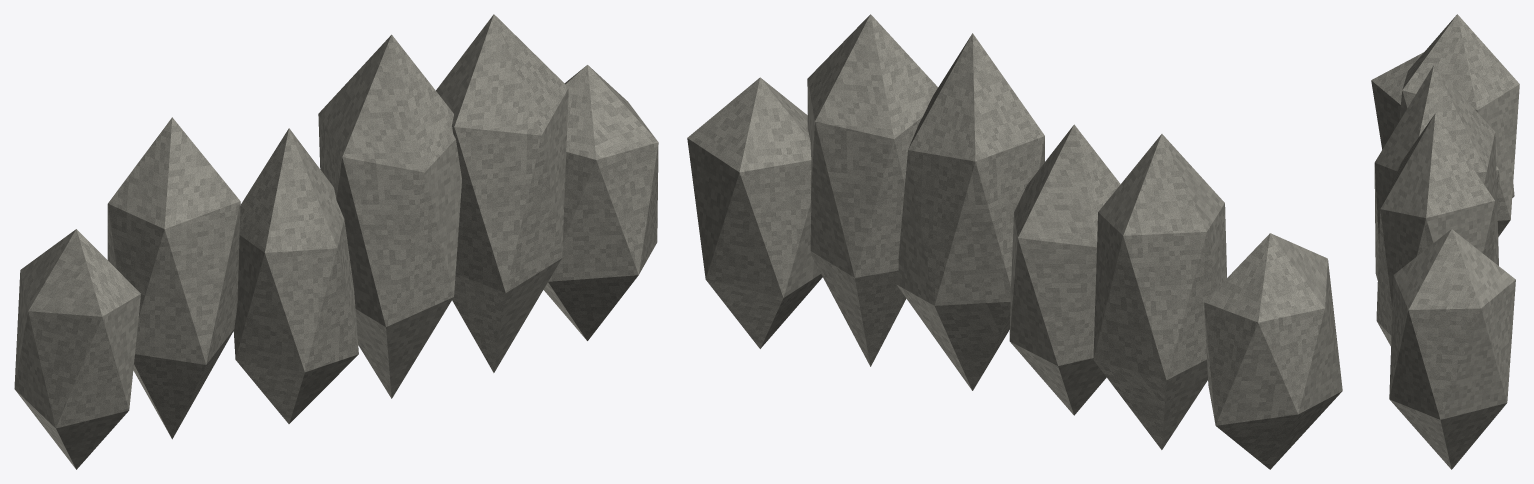
3 renders of one model, left to right at view 1: azimuth 30°, elevation 25°; view 2: azimuth 150°, elevation 25°; view 3: azimuth 270°, elevation 25°, orthographic. The views are drawn at different scales.
Parts seen in each view (by area): view 1: ST2-T05_Mesh; view 2: ST2-T05_Mesh; view 3: ST2-T05_Mesh.
Boxes of the visible parts, <box> form: ST2-T05_Mesh: <box>14,14,658,469</box>; ST2-T05_Mesh: <box>687,14,1342,469</box>; ST2-T05_Mesh: <box>1371,14,1519,469</box>.
Bounding box in the file's own units: 7.96 × 4.4 × 1.87.
